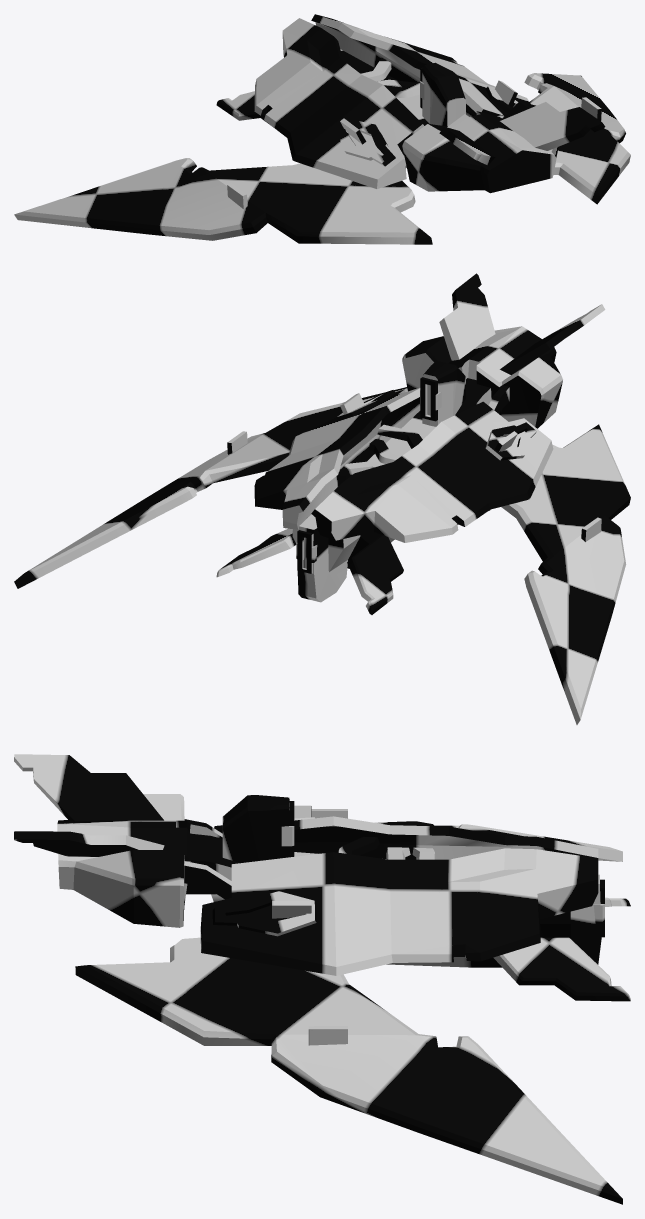
The model's file is pet_sentinel.obj.
3 renders of one model, top to bottom at view 1: azimuth 30°, elevation 25°; view 2: azimuth 150°, elevation 25°; view 3: azimuth 270°, elevation 25°, orthographic. The views are drawn at different scales.
Parts seen in each view (by area): view 1: pet_sentinel; view 2: pet_sentinel; view 3: pet_sentinel.
Part boxes in pixels (left/top/right/bottom): pet_sentinel: left=14, top=14, right=630, bottom=244; pet_sentinel: left=14, top=273, right=630, bottom=724; pet_sentinel: left=14, top=754, right=630, bottom=1204.
Size of the model in its own units: 111 by 35.96 by 83.58.
1 material, 1 textured.
